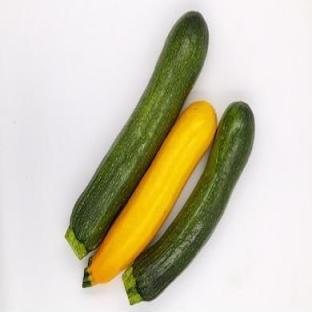Zucchini: (66, 12, 208, 259), (123, 102, 254, 303), (83, 101, 216, 286)
